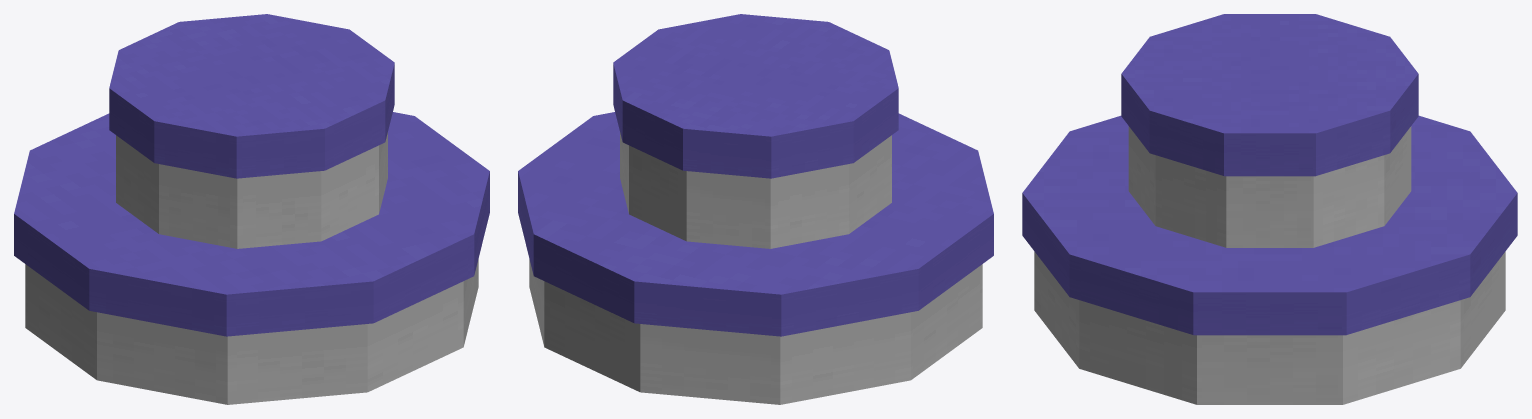
File: mod_EstanteriaDulces_Circular.fbx
3 views of the same model, side by side, from view 1: azimuth 30°, elevation 25°; view 2: azimuth 150°, elevation 25°; view 3: azimuth 270°, elevation 25° (orthographic).
Visible parts, largest first — view 1: msh_estanteDulces_cilindro.001, msh_estanteDulces_cilindro.002, msh_estanteDulces_cilindro, msh_estanteDulces_cilindro.003; view 2: msh_estanteDulces_cilindro.001, msh_estanteDulces_cilindro.002, msh_estanteDulces_cilindro, msh_estanteDulces_cilindro.003; view 3: msh_estanteDulces_cilindro.001, msh_estanteDulces_cilindro.002, msh_estanteDulces_cilindro, msh_estanteDulces_cilindro.003.
Boxes of the visible parts, x1,y1,x2,y2 form: msh_estanteDulces_cilindro.001: [14, 112, 489, 336]; msh_estanteDulces_cilindro.002: [109, 14, 394, 178]; msh_estanteDulces_cilindro: [25, 259, 478, 404]; msh_estanteDulces_cilindro.003: [116, 132, 387, 248]; msh_estanteDulces_cilindro.001: [518, 112, 993, 336]; msh_estanteDulces_cilindro.002: [613, 14, 898, 178]; msh_estanteDulces_cilindro: [529, 259, 982, 404]; msh_estanteDulces_cilindro.003: [620, 132, 891, 248]; msh_estanteDulces_cilindro.001: [1022, 115, 1517, 335]; msh_estanteDulces_cilindro.002: [1121, 14, 1418, 176]; msh_estanteDulces_cilindro: [1034, 251, 1505, 404]; msh_estanteDulces_cilindro.003: [1128, 126, 1411, 247].
Bounding box in the file's own units: 200 × 111 × 210.
